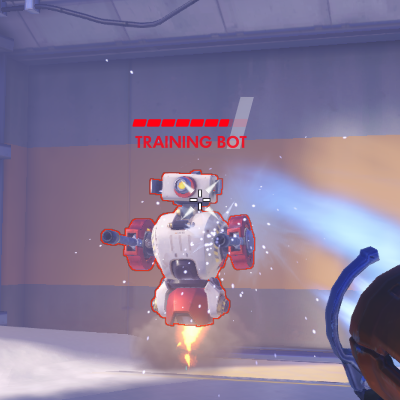hpbar: (132, 118, 248, 128)
